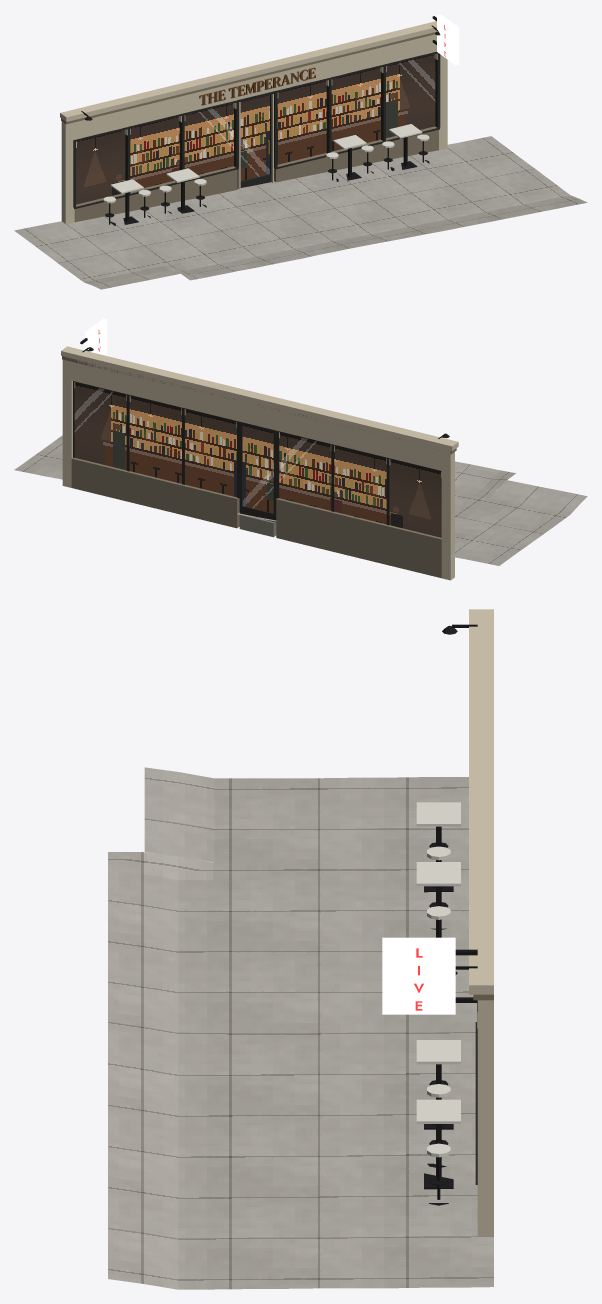
File: the_temperance.glb
3 renders of one model, top to bottom at view 1: azimuth 30°, elevation 25°; view 2: azimuth 150°, elevation 25°; view 3: azimuth 270°, elevation 25°, orthographic. The views are drawn at different scales.
Parts seen in each view (by area): view 1: TheTemperance; view 2: TheTemperance; view 3: TheTemperance.
Part boxes in pixels (x1,y1,x2,y2): TheTemperance: (14, 14, 587, 289); TheTemperance: (14, 318, 587, 580); TheTemperance: (108, 609, 493, 1289).
Size of what is drawn, in the model's own units: 15 by 4.42 by 5.25.
13 materials, 2 textured.
